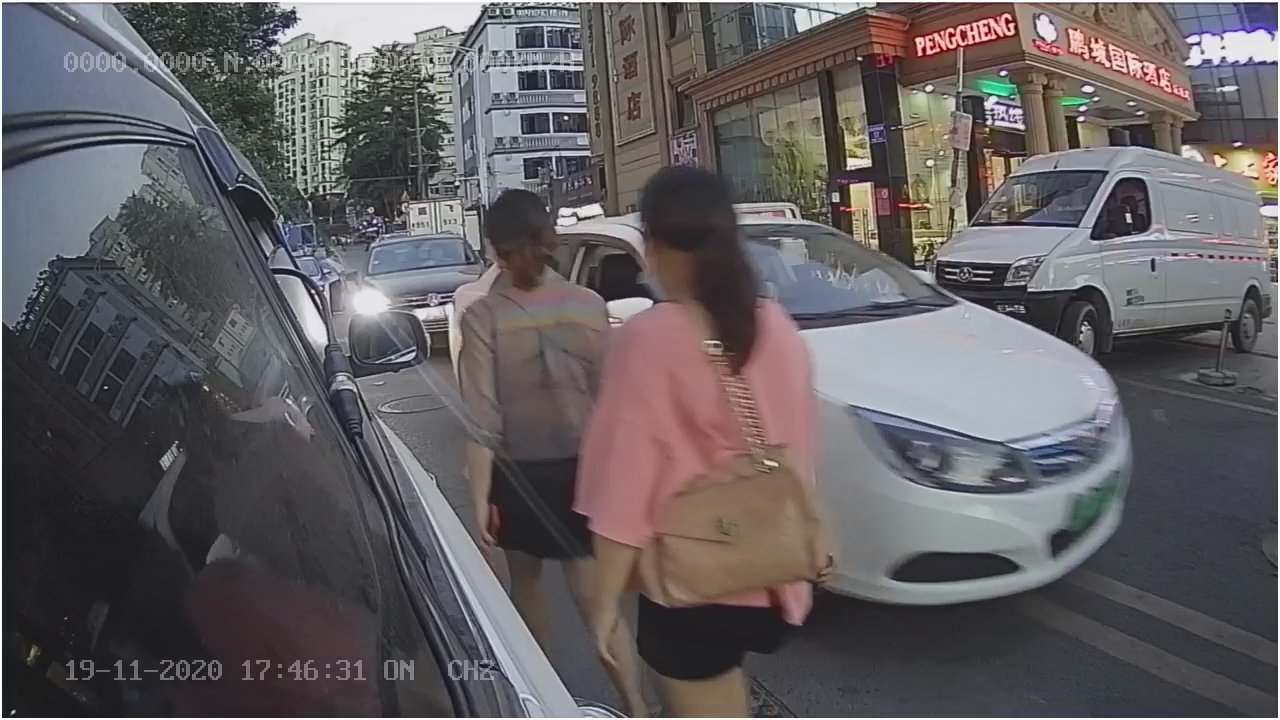person: (589, 173, 826, 669)
